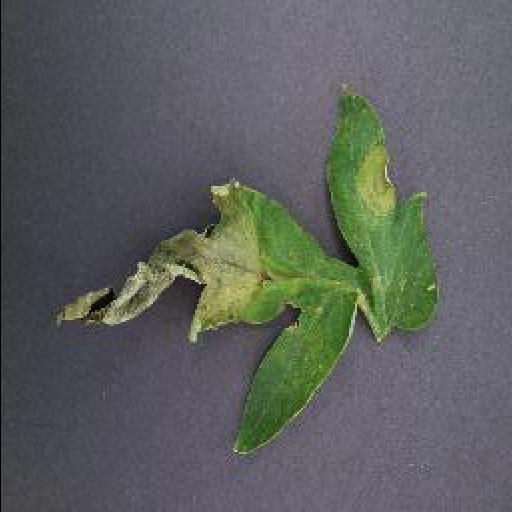disease_tomato: (48, 80, 442, 452)
